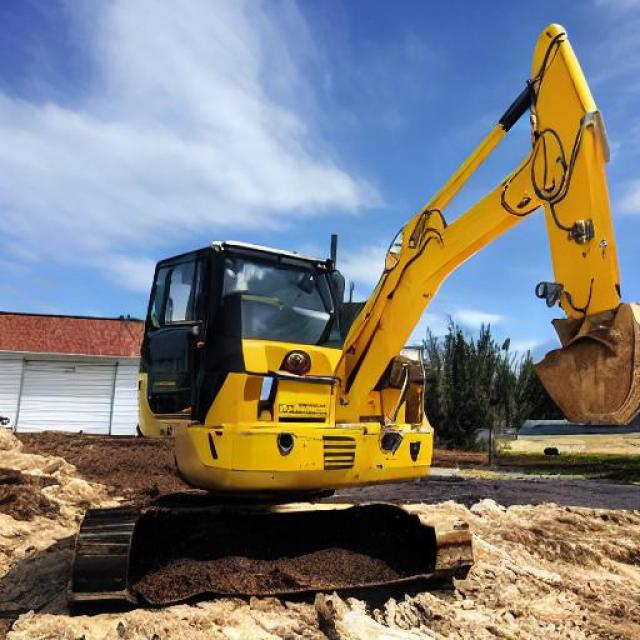excavator: (471, 0, 640, 264)
